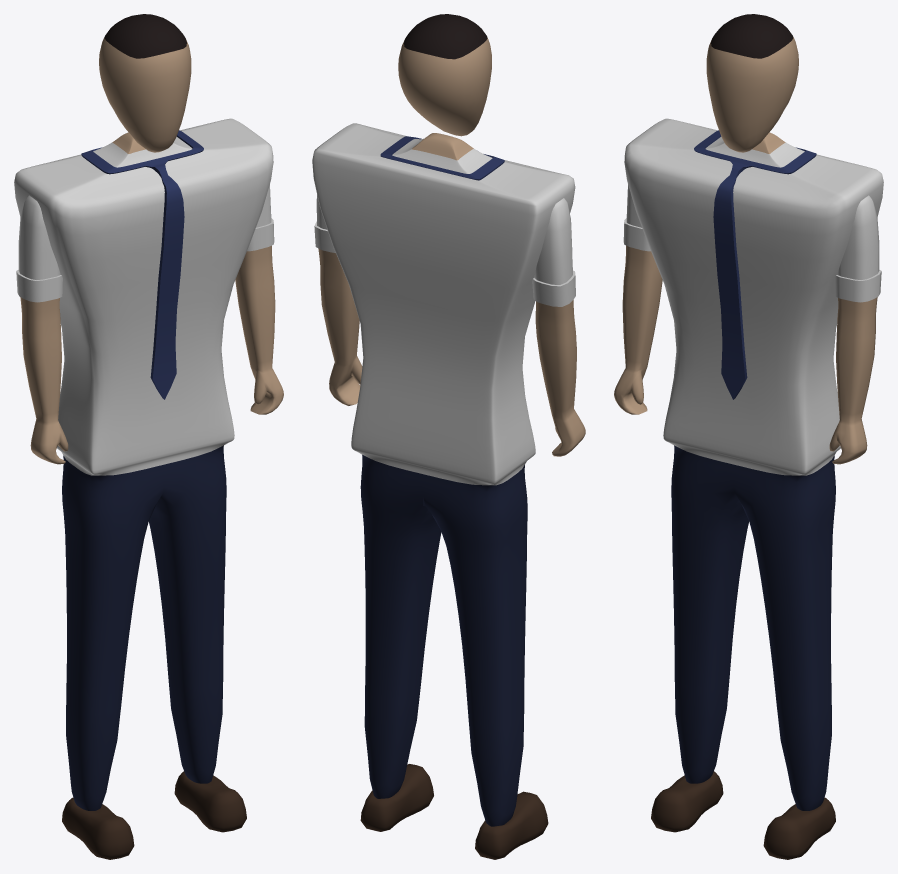
Rendered from OfficeWorker_Stylized_V1.fbx.
The picture shows the model from 3 angles, left to right: view 1: azimuth 30°, elevation 25°; view 2: azimuth 150°, elevation 25°; view 3: azimuth 330°, elevation 25°; orthographic projection.
Parts seen in each view (by area): view 1: Body3, Arm2, Head, Foot2; view 2: Body3, Arm2, Head, Foot2; view 3: Body3, Arm2, Head, Foot2.
Boxes of the visible parts, x1,y1,x2,y2 form: Body3: (14, 118, 273, 810); Arm2: (16, 185, 283, 464); Head: (99, 14, 191, 152); Foot2: (62, 771, 246, 859); Body3: (312, 123, 575, 826); Arm2: (314, 195, 585, 456); Head: (398, 14, 491, 136); Foot2: (360, 764, 548, 859); Body3: (624, 118, 883, 810); Arm2: (614, 185, 881, 464); Head: (706, 14, 798, 152); Foot2: (651, 771, 835, 859).
Size of the model in its own units: 352 by 1092 by 141.
